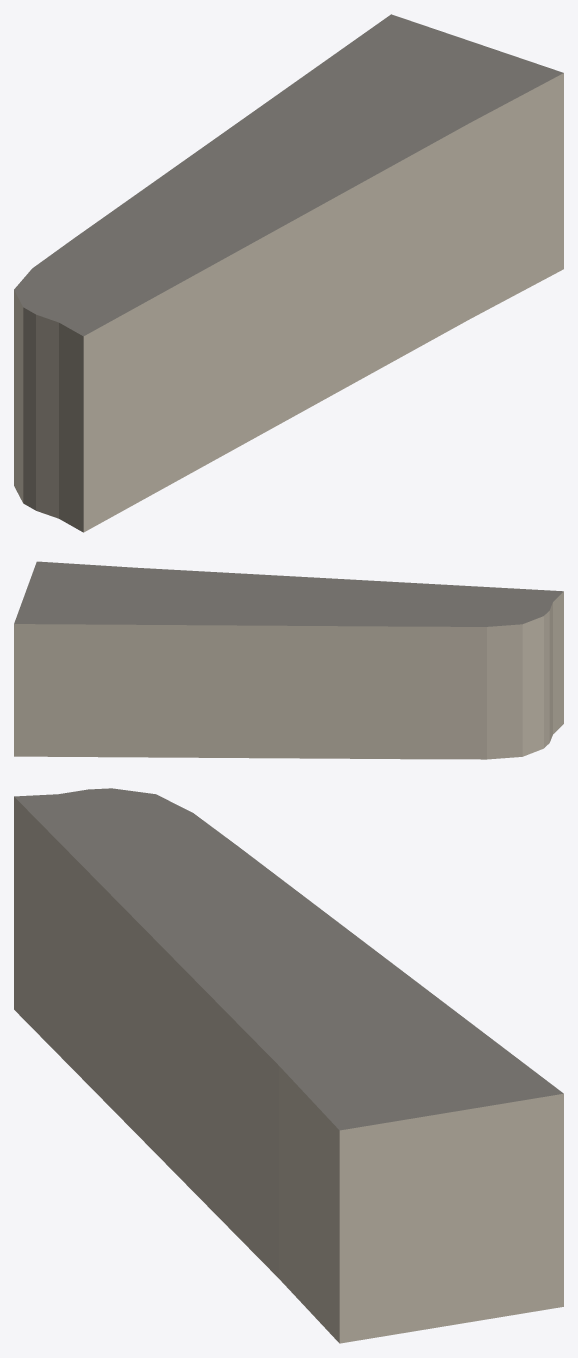
3 views of the same model, one above another, from view 1: azimuth 30°, elevation 25°; view 2: azimuth 150°, elevation 25°; view 3: azimuth 270°, elevation 25° (orthographic). The views are drawn at different scales.
Parts seen in each view (by area): view 1: HP-w378107080; view 2: HP-w378107080; view 3: HP-w378107080.
Boxes of the visible parts, box(x1,y1,x2,y2) form: HP-w378107080: box(14, 14, 563, 532); HP-w378107080: box(14, 561, 563, 759); HP-w378107080: box(14, 788, 563, 1343).
Size of the model in its own units: 61.97 by 18 by 42.1.
